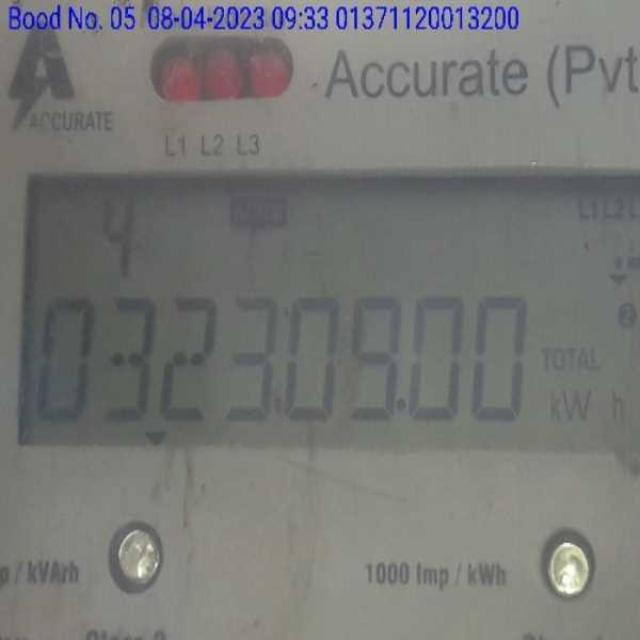0: (280, 286, 344, 437), (31, 290, 94, 436), (408, 290, 471, 434), (473, 288, 531, 441)
2: (154, 290, 224, 440)
3: (227, 288, 281, 439), (95, 291, 154, 427)
9: (347, 285, 403, 437)
Digital meter: (9, 172, 640, 449)
point: (394, 396, 410, 422)
